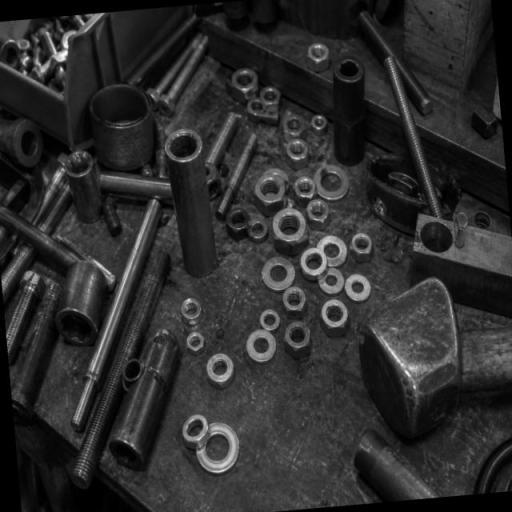Bolt: (67, 193, 165, 490), (0, 204, 117, 290), (384, 80, 448, 222), (143, 32, 210, 113), (0, 270, 43, 376), (203, 111, 247, 203), (218, 123, 258, 199)
Nut: (312, 163, 350, 202), (252, 168, 288, 204), (272, 207, 307, 244), (284, 321, 312, 352), (321, 299, 349, 329), (231, 68, 259, 95), (223, 204, 251, 231), (282, 286, 306, 312), (283, 112, 308, 136), (305, 199, 329, 224), (293, 175, 317, 199), (284, 140, 309, 163), (349, 231, 372, 256), (179, 297, 202, 321), (306, 42, 329, 64), (246, 222, 268, 245), (261, 84, 281, 104), (310, 114, 328, 133)
Washer: (193, 423, 240, 475), (260, 256, 296, 292), (244, 329, 278, 364), (205, 353, 235, 386), (299, 246, 329, 278), (181, 414, 209, 444), (320, 235, 348, 264), (318, 265, 346, 294), (345, 273, 372, 302), (184, 330, 205, 354), (258, 308, 278, 330)
